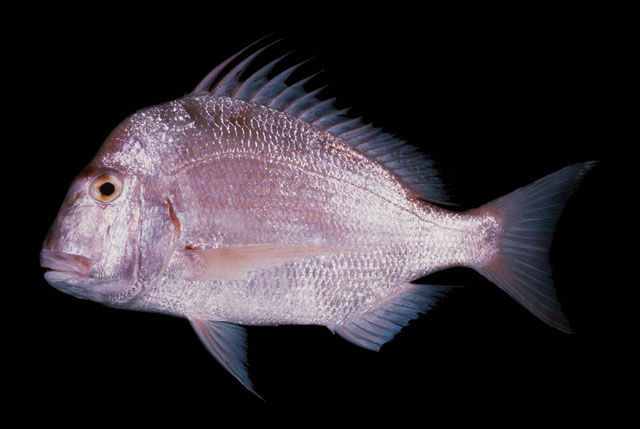fish: (41, 48, 586, 399)
